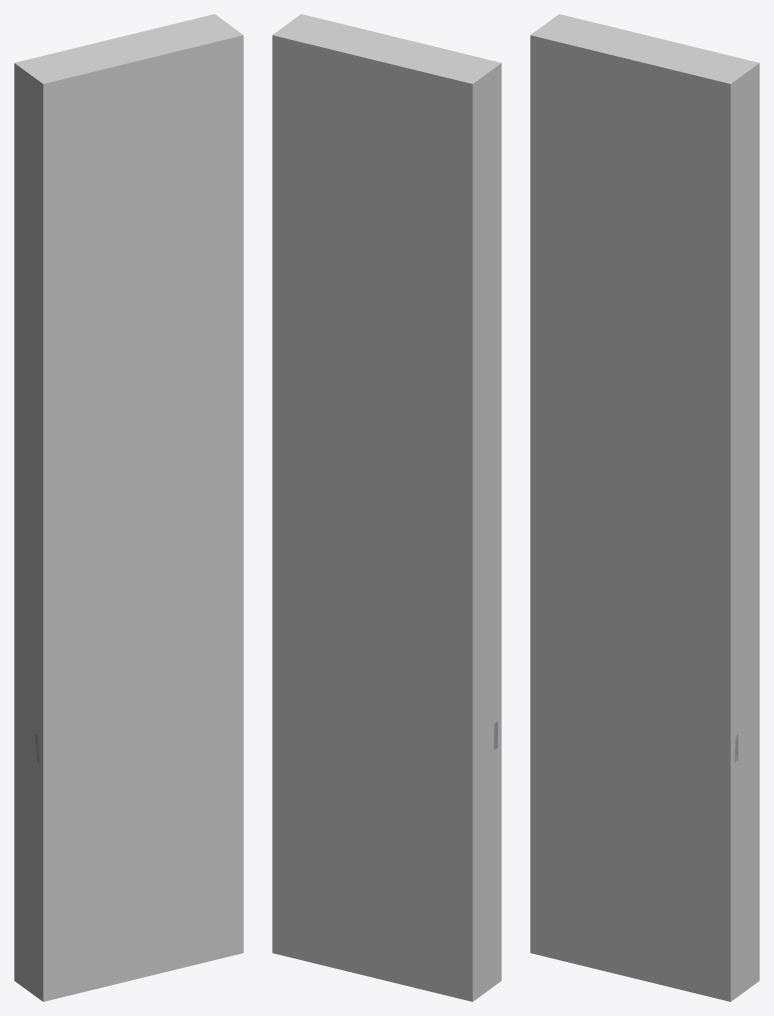
The model's file is FMS_Tool_Shovel.fbx.
The picture shows the model from 3 angles, left to right: view 1: azimuth 30°, elevation 25°; view 2: azimuth 150°, elevation 25°; view 3: azimuth 330°, elevation 25°; orthographic projection.
Parts seen in each view (by area): view 1: FMS_Tool_Shovel_Col; view 2: FMS_Tool_Shovel_Col; view 3: FMS_Tool_Shovel_Col.
Part boxes in pixels (<box>): FMS_Tool_Shovel_Col: <box>14,14,243,1001</box>; FMS_Tool_Shovel_Col: <box>272,14,501,1001</box>; FMS_Tool_Shovel_Col: <box>530,14,759,1001</box>.
Size of what is drawn, in the model's own units: 0.24 by 1.05 by 0.06.
Materials: 1 (1 with a texture image).
